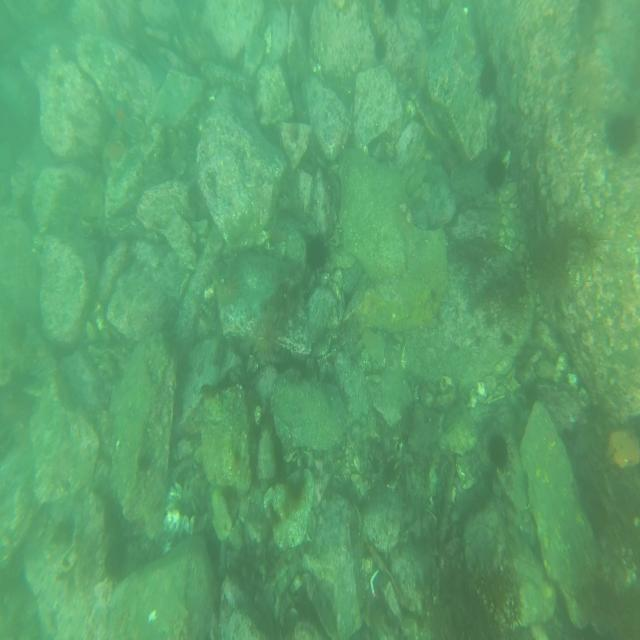echinus: (604, 108, 640, 157), (300, 226, 332, 274), (486, 430, 514, 475), (483, 150, 510, 193), (478, 60, 501, 105)
